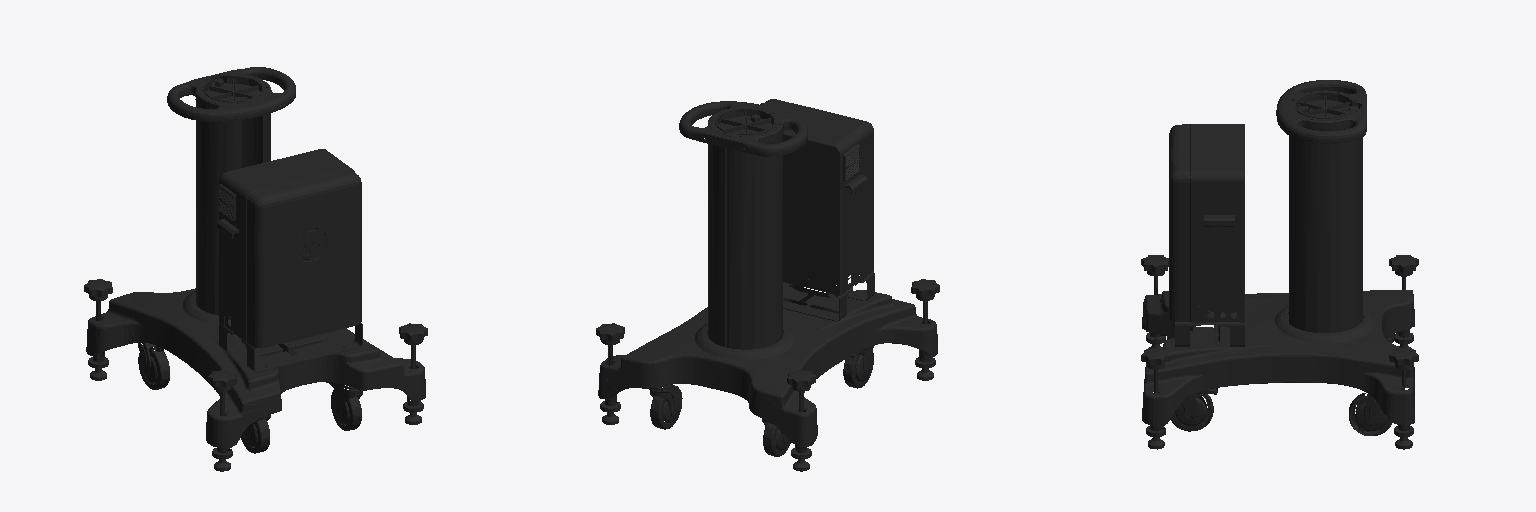
Rendered from pedestal_visuals.obj.
3 views of the same model, side by side, from view 1: azimuth 30°, elevation 25°; view 2: azimuth 150°, elevation 25°; view 3: azimuth 270°, elevation 25° (orthographic).
Bounding box in the file's own units: 0.6859 × 0.926 × 0.7667.